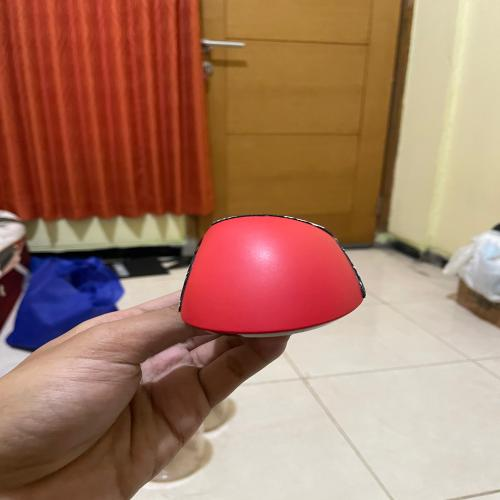Mouse: (172, 200, 375, 343)
